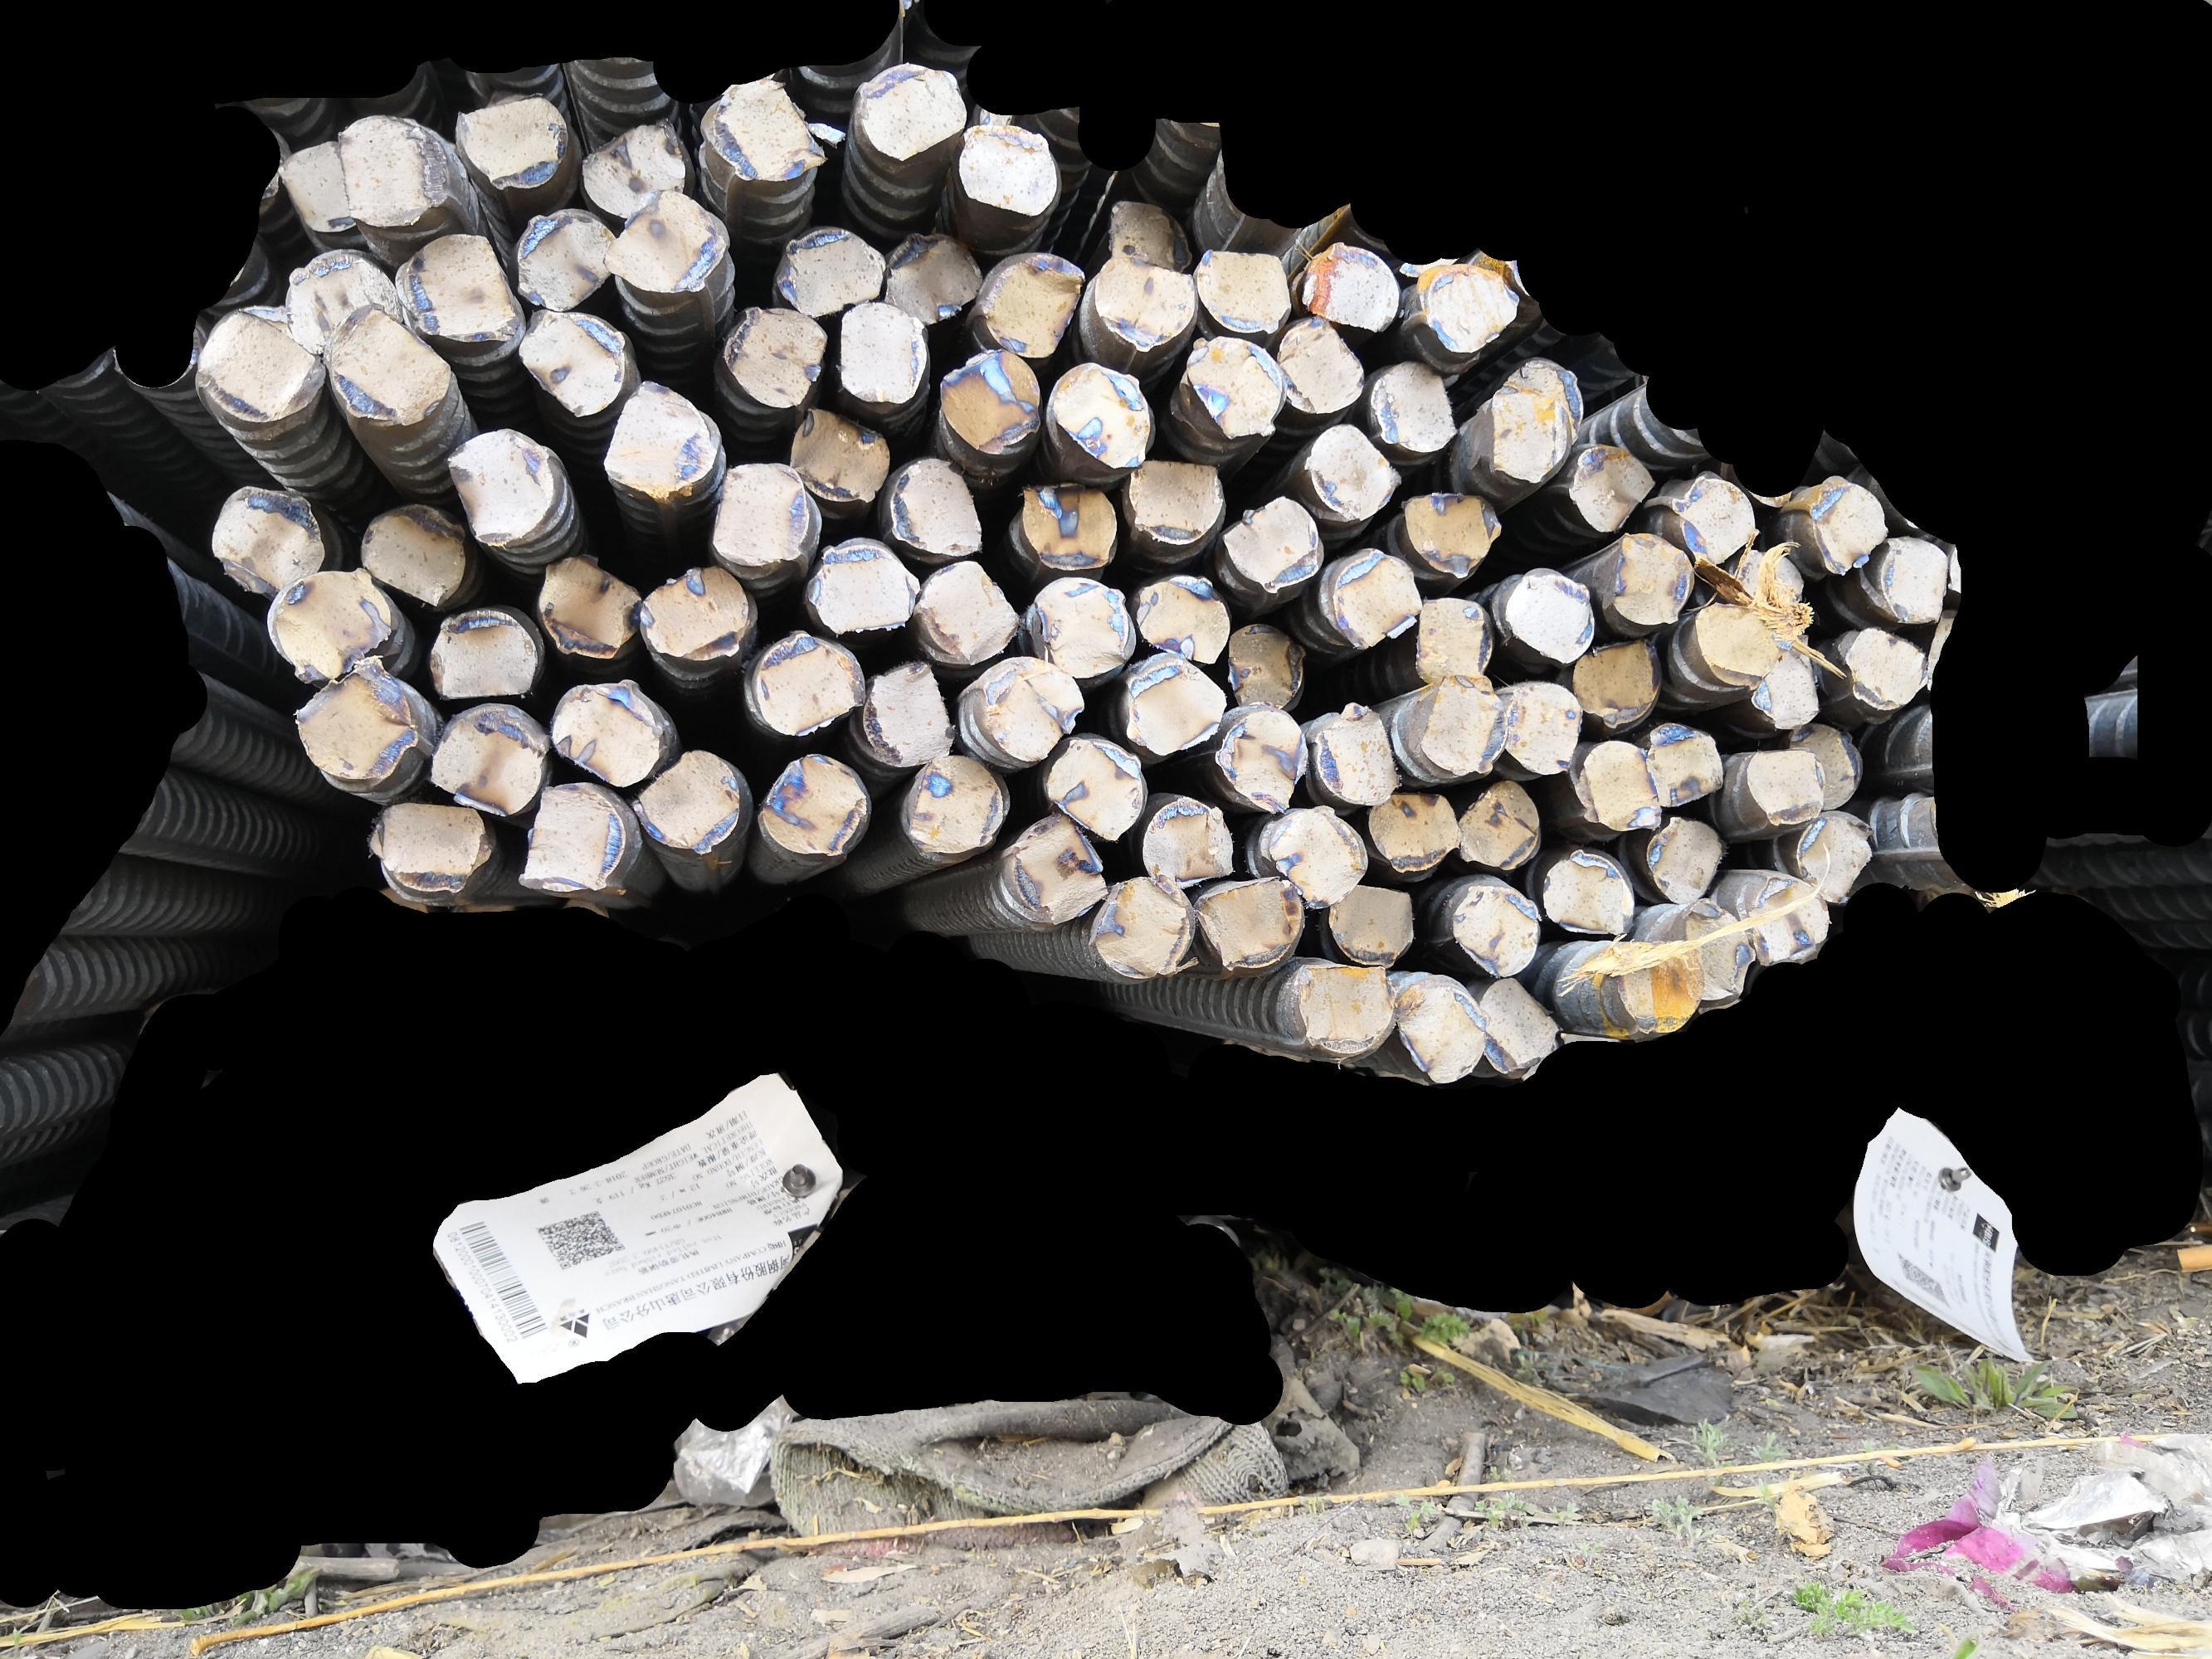bar: (310, 298, 455, 429), (289, 650, 422, 784), (190, 296, 331, 420), (258, 565, 397, 685), (385, 228, 519, 349), (593, 183, 732, 298), (438, 422, 560, 551), (424, 697, 551, 819), (500, 303, 629, 418), (596, 375, 713, 500), (275, 246, 404, 357), (544, 676, 666, 793), (624, 742, 746, 857), (973, 650, 1089, 769), (204, 479, 326, 592), (511, 781, 629, 896), (357, 498, 478, 612), (708, 75, 831, 185), (746, 624, 870, 734), (757, 742, 870, 861), (329, 112, 441, 232), (912, 552, 1025, 669), (934, 342, 1046, 460), (1250, 803, 1370, 911), (572, 115, 694, 221), (802, 532, 924, 638), (981, 239, 1086, 362), (1001, 812, 1112, 927), (704, 450, 811, 570), (1021, 573, 1135, 685), (720, 296, 830, 411), (1039, 732, 1154, 842), (1089, 868, 1199, 983), (528, 552, 643, 660), (420, 601, 539, 706), (638, 559, 757, 664), (1187, 871, 1307, 974), (361, 796, 485, 896), (770, 218, 891, 319), (1180, 328, 1286, 441), (1049, 357, 1152, 474), (859, 652, 960, 770), (509, 206, 619, 314), (1089, 247, 1203, 352), (450, 92, 570, 190), (781, 403, 891, 509), (1288, 953, 1398, 1060), (1384, 974, 1490, 1084), (898, 756, 1011, 859), (1133, 786, 1239, 894), (1119, 650, 1229, 755), (854, 61, 966, 162), (1126, 565, 1232, 669), (1304, 415, 1405, 525), (1117, 450, 1227, 551), (1213, 704, 1311, 817), (1218, 490, 1323, 594), (955, 117, 1062, 220), (1295, 232, 1401, 335), (1189, 237, 1295, 338), (1011, 477, 1123, 573), (833, 295, 926, 410), (877, 228, 981, 329), (1419, 256, 1523, 357), (1607, 936, 1708, 1040), (1501, 559, 1600, 666), (889, 451, 985, 559), (1396, 484, 1504, 580), (1684, 592, 1788, 690), (1447, 873, 1541, 981), (1417, 669, 1511, 777), (1271, 310, 1367, 415), (1365, 357, 1464, 457), (1830, 617, 1935, 711), (1680, 890, 1761, 1012), (1330, 549, 1426, 650), (1468, 974, 1564, 1075), (1572, 732, 1661, 840), (1314, 701, 1401, 810), (1738, 871, 1835, 969), (1537, 843, 1637, 939), (1605, 526, 1698, 629), (1485, 382, 1574, 488), (1802, 474, 1891, 580), (1562, 439, 1659, 535), (1450, 775, 1546, 873), (1565, 638, 1665, 732), (1360, 788, 1464, 875), (1672, 469, 1761, 570), (1499, 345, 1590, 443), (1222, 617, 1313, 714), (1497, 676, 1584, 777), (1790, 807, 1877, 908), (1410, 589, 1497, 688), (1642, 809, 1727, 910), (1327, 878, 1419, 971), (1870, 526, 1952, 629), (1738, 741, 1834, 828), (1644, 714, 1727, 812), (275, 138, 357, 235), (1105, 192, 1198, 277), (1785, 718, 1867, 814), (1748, 640, 1825, 732), (1724, 544, 1811, 615), (739, 368, 744, 389)
